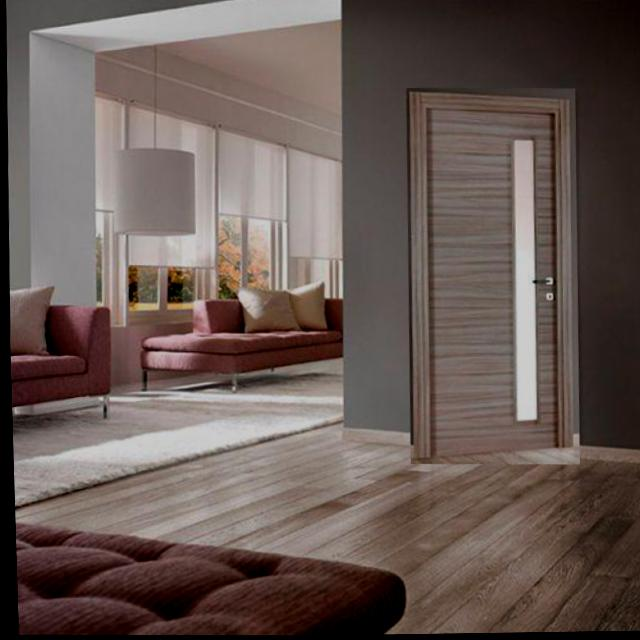close: (399, 87, 585, 469)
